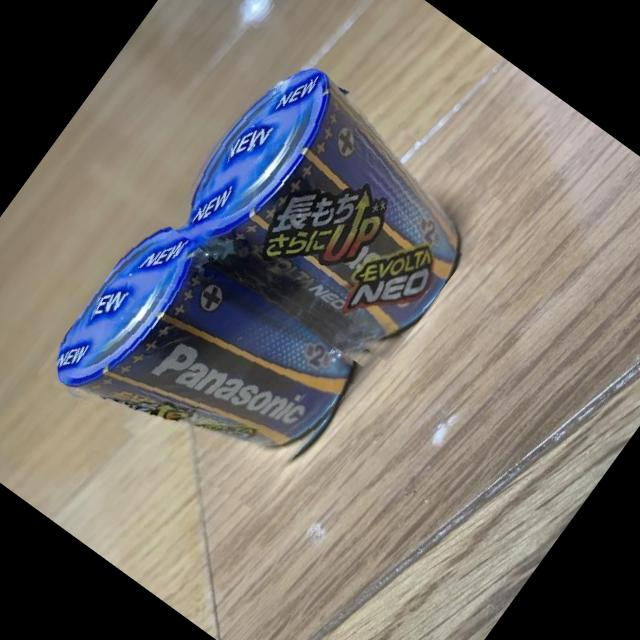Hazard: (156, 44, 503, 379), (35, 214, 368, 532)
